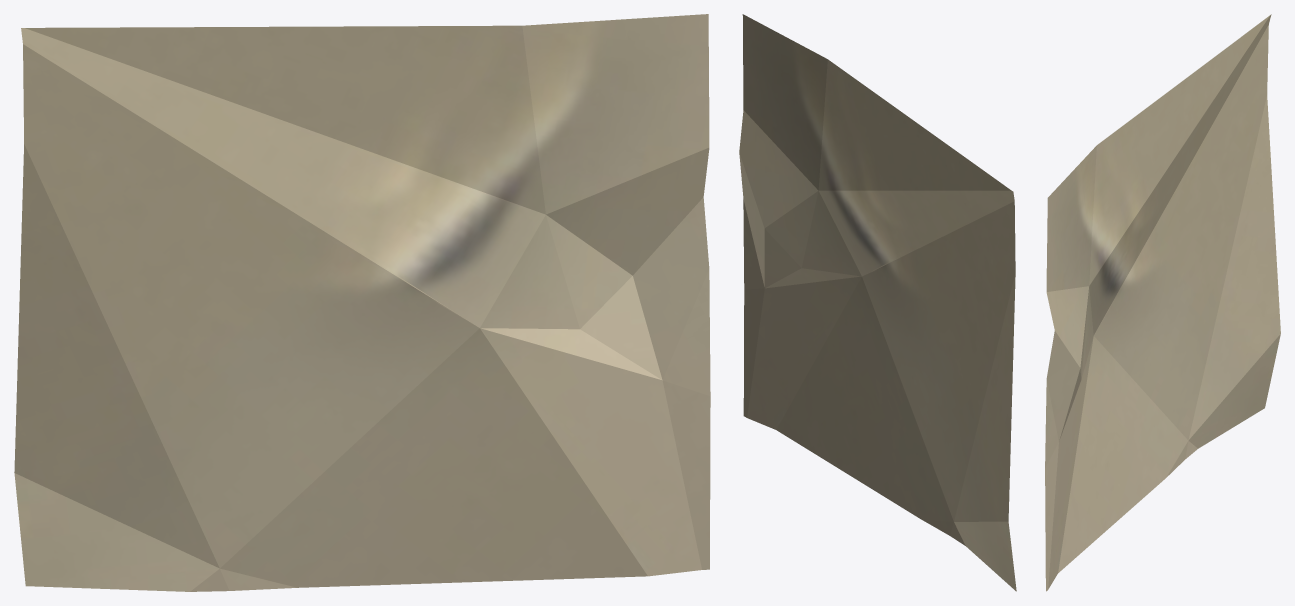
3 renders of one model, left to right at view 1: azimuth 30°, elevation 25°; view 2: azimuth 150°, elevation 25°; view 3: azimuth 270°, elevation 25°, orthographic. The views are drawn at different scales.
Size of the model in its own units: 0.8373 by 0.8374 by 0.4542.
3 materials, 3 textured.
